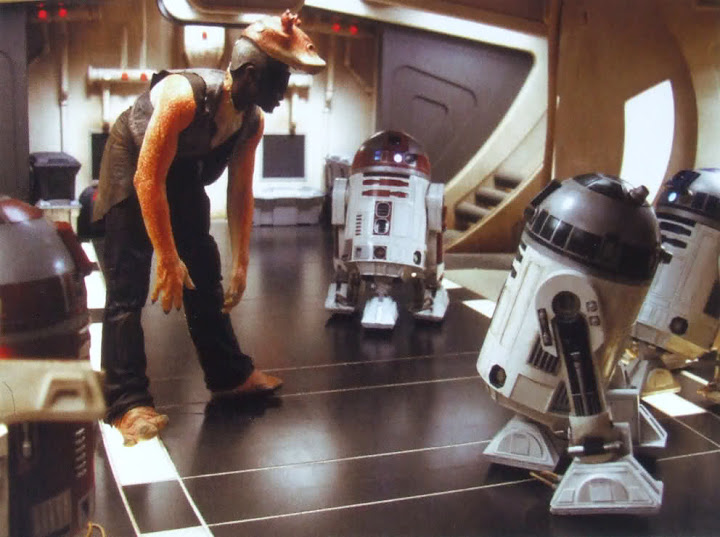r2d2: (631, 166, 719, 397)
